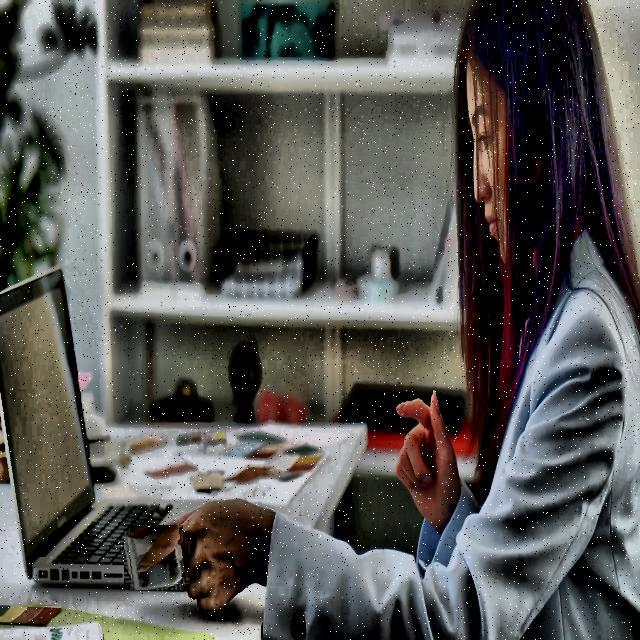Phone: (125, 526, 188, 589)
